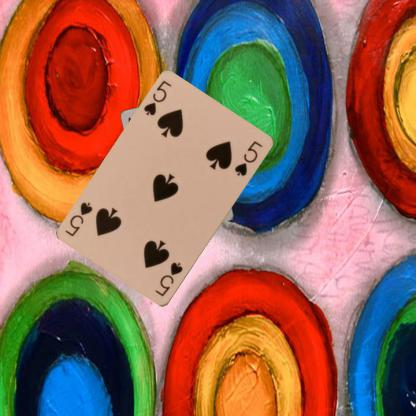5s: (141, 78, 173, 117), (152, 260, 184, 298)
